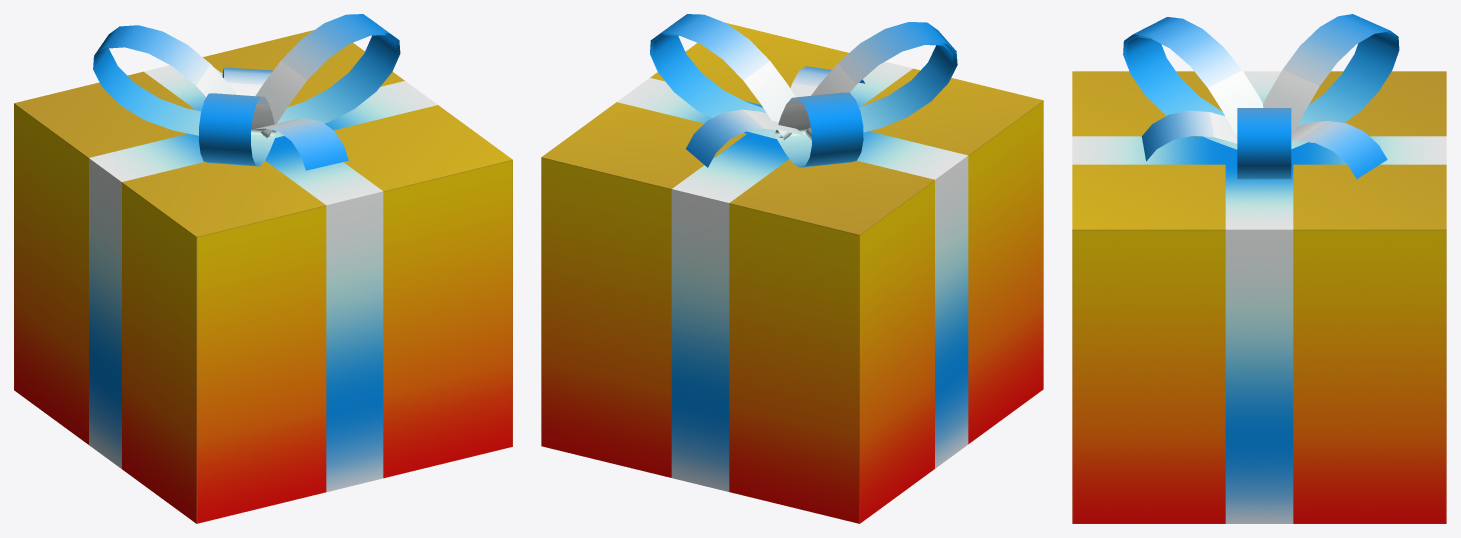
The model's file is Gift_02.FBX.
3 renders of one model, left to right at view 1: azimuth 30°, elevation 25°; view 2: azimuth 150°, elevation 25°; view 3: azimuth 270°, elevation 25°, orthographic. The views are drawn at different scales.
Visible parts, largest first — view 1: Gift_02; view 2: Gift_02; view 3: Gift_02.
Boxes of the visible parts, x1,y1,x2,y2 form: Gift_02: [14, 14, 512, 523]; Gift_02: [541, 14, 1043, 523]; Gift_02: [1072, 14, 1446, 523].
Bounding box in the file's own units: 80.66 × 89.81 × 80.66.
